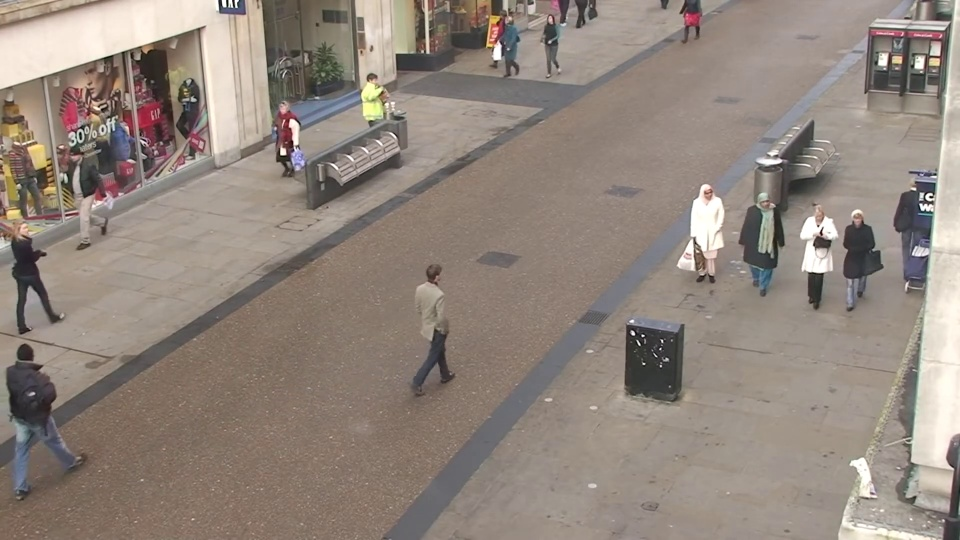pedestrian: (15, 327, 84, 478), (12, 212, 71, 331), (424, 252, 469, 385), (828, 205, 876, 326), (793, 205, 838, 326), (50, 143, 98, 244), (738, 189, 779, 304), (685, 179, 724, 293), (265, 101, 299, 191), (358, 68, 388, 150), (494, 15, 518, 82), (536, 13, 559, 81), (488, 7, 511, 72)
